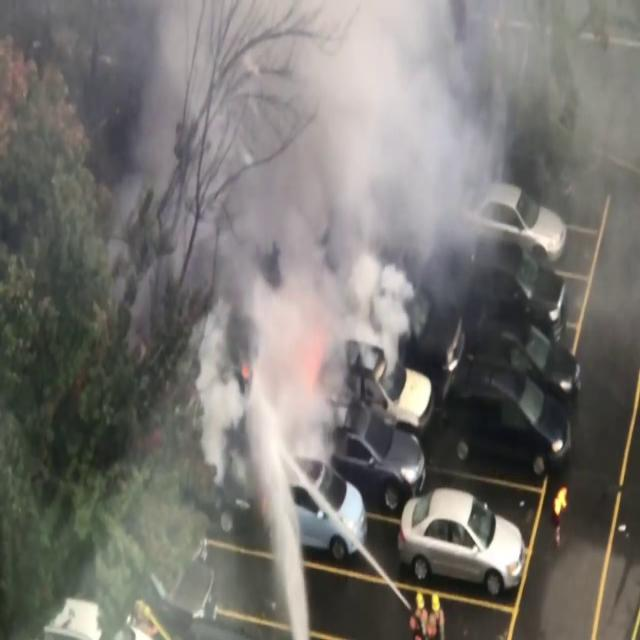Smoke: (182, 1, 640, 267), (126, 0, 342, 508)
